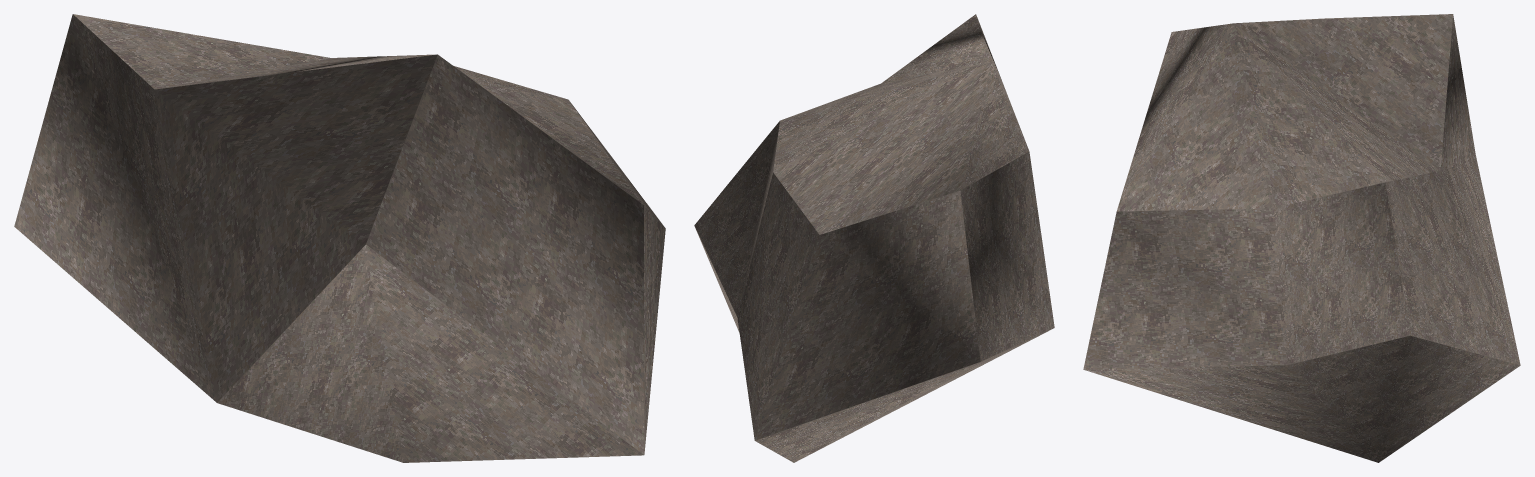
Rendered from bstone.glb.
The picture shows the model from 3 angles, left to right: view 1: azimuth 30°, elevation 25°; view 2: azimuth 150°, elevation 25°; view 3: azimuth 270°, elevation 25°; orthographic projection. The views are drawn at different scales.
Visible parts, largest first — view 1: _bstone; view 2: _bstone; view 3: _bstone.
Part boxes in pixels (x1,y1,x2,y2): _bstone: (14,14,665,462); _bstone: (694,14,1054,462); _bstone: (1083,14,1520,462).
Size of the model in its own units: 0.1055 by 0.104 by 0.105.
1 material, 1 textured.
